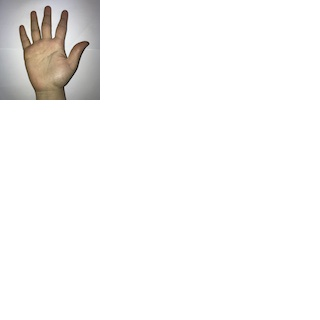paper: (16, 3, 89, 90)
